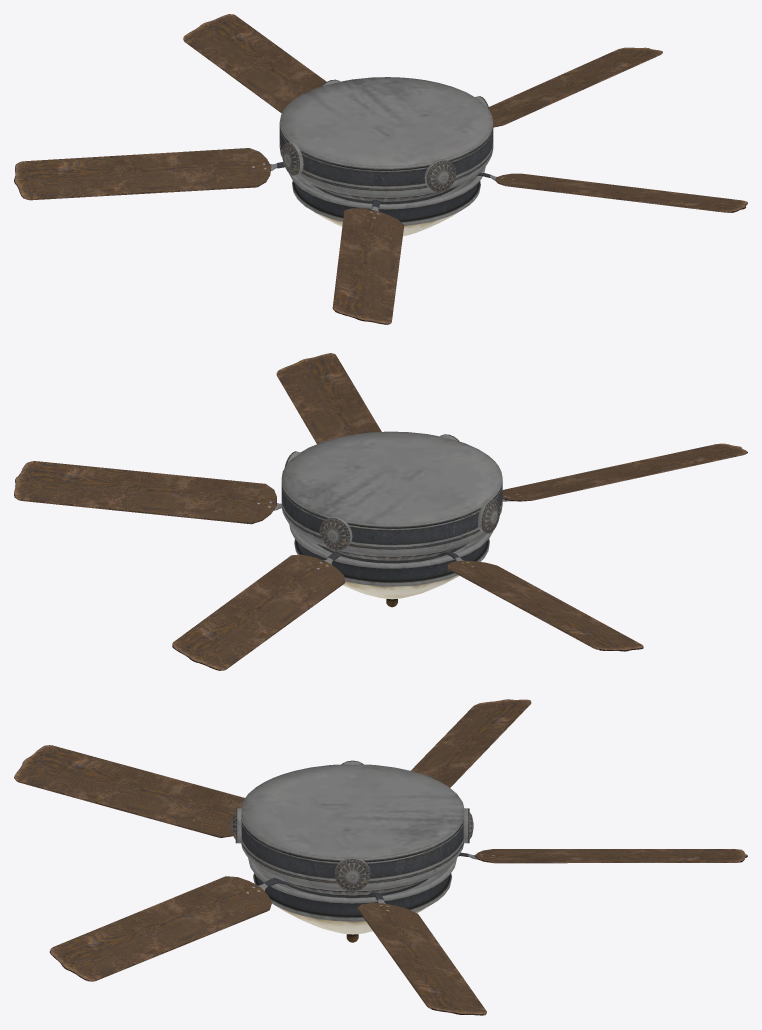
Rendered from ceiling_fan.glb.
3 renders of one model, top to bottom at view 1: azimuth 30°, elevation 25°; view 2: azimuth 150°, elevation 25°; view 3: azimuth 270°, elevation 25°, orthographic. The views are drawn at different scales.
Parts seen in each view (by area): view 1: Vent_Blades, Vent_Main; view 2: Vent_Blades, Vent_Main; view 3: Vent_Blades, Vent_Main.
Boxes of the visible parts, x1,y1,x2,y2 form: Vent_Blades: (14,14,747,324); Vent_Main: (279,77,493,236); Vent_Blades: (14,353,747,670); Vent_Main: (281,431,502,607); Vent_Blades: (14,699,747,1015); Vent_Main: (231,760,473,942).
Size of the model in its own units: 35.48 by 6.86 by 34.63.
Materials: 1 (1 with a texture image).
